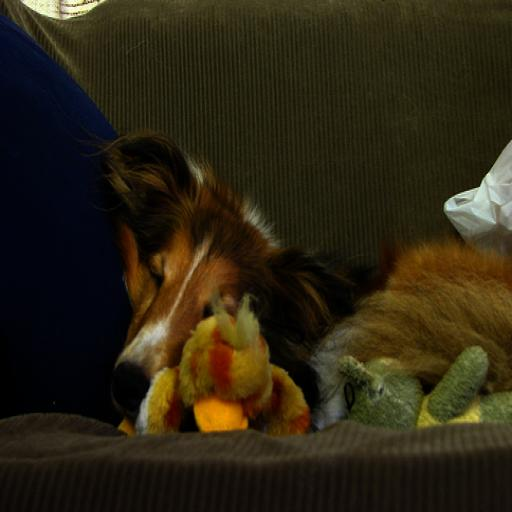dog_face: (104, 141, 331, 406)
